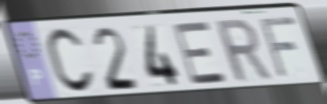2: (92, 25, 141, 93)
4: (144, 23, 182, 89)
C: (44, 26, 97, 97)
E: (170, 19, 230, 87)
F: (257, 14, 300, 81)
R: (212, 16, 275, 85)
